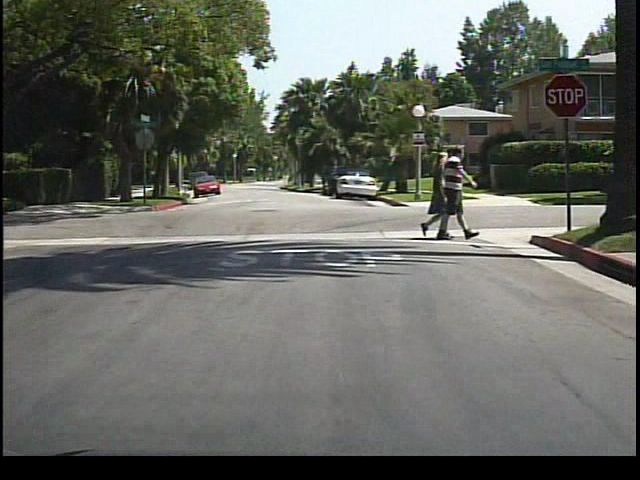person: (443, 144, 477, 243), (421, 151, 450, 240)
